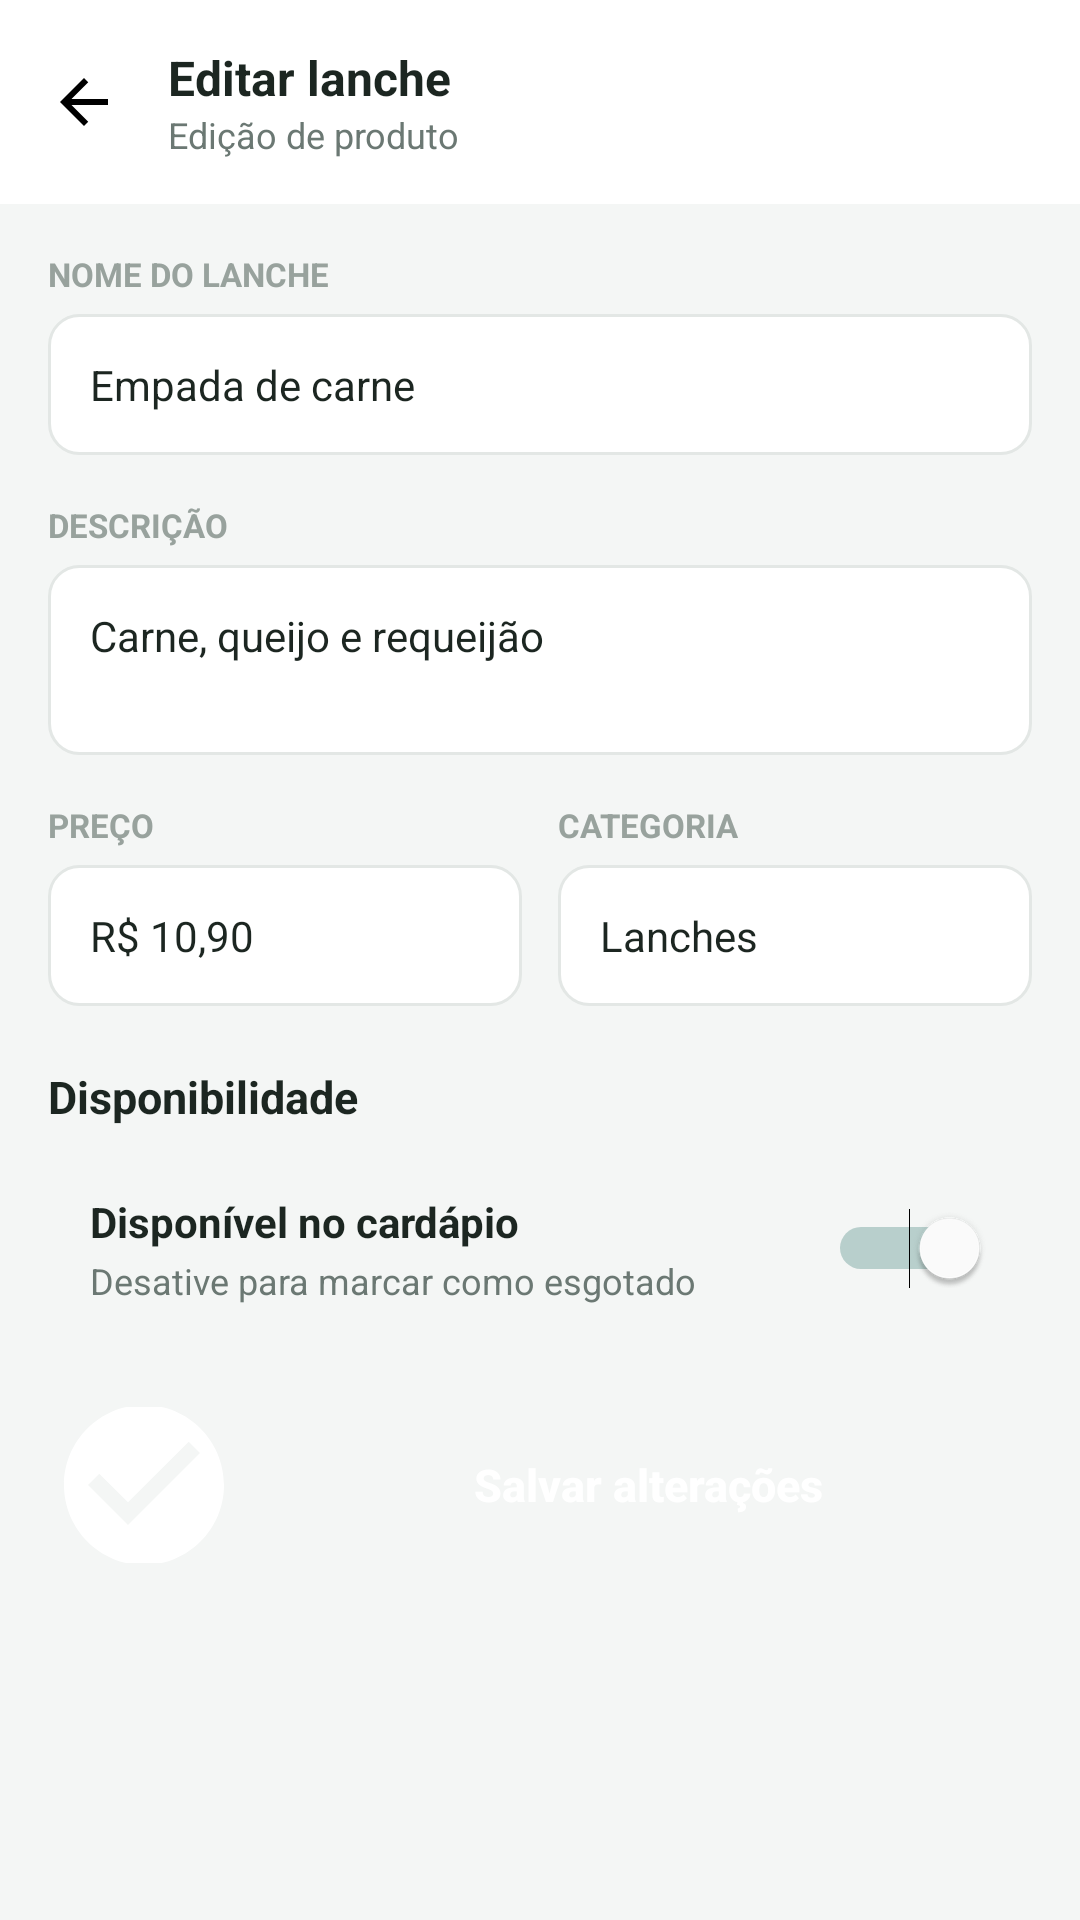

Icon click points for this 1080px x 1920px phone screenshot, format point (x, y):
Voltar: point (84, 102)
